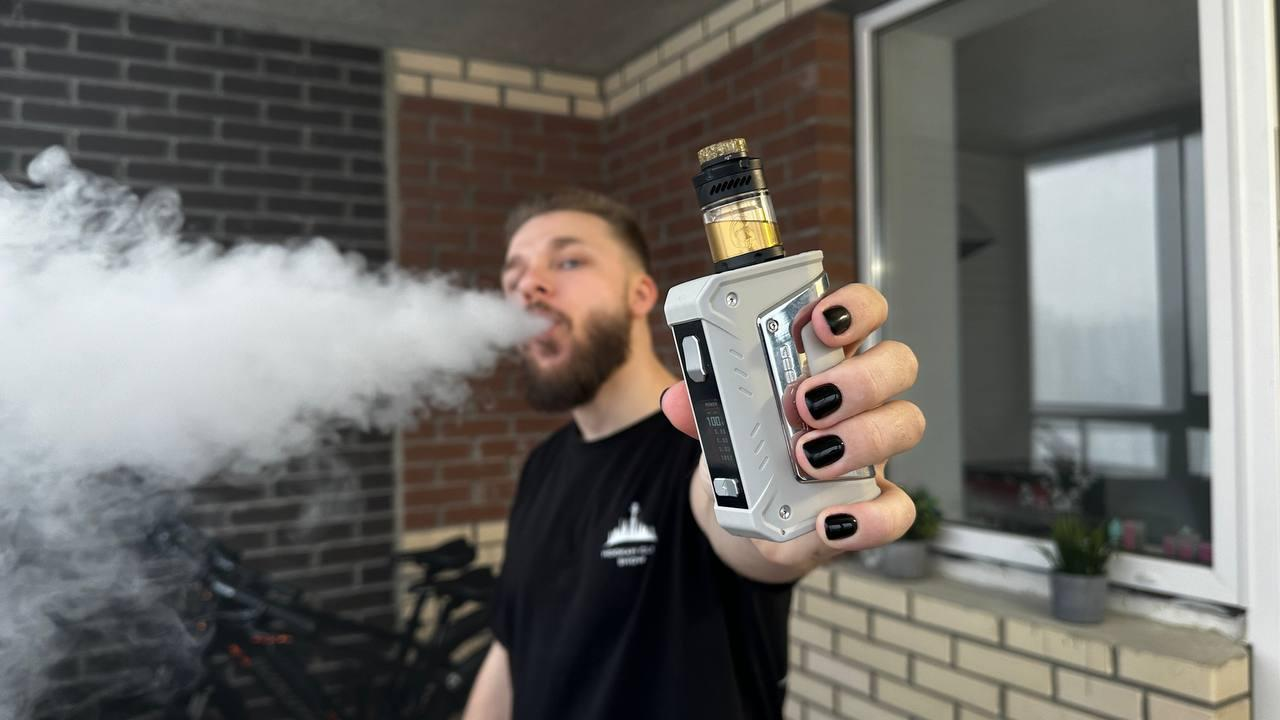Vape: (663, 139, 878, 543)
